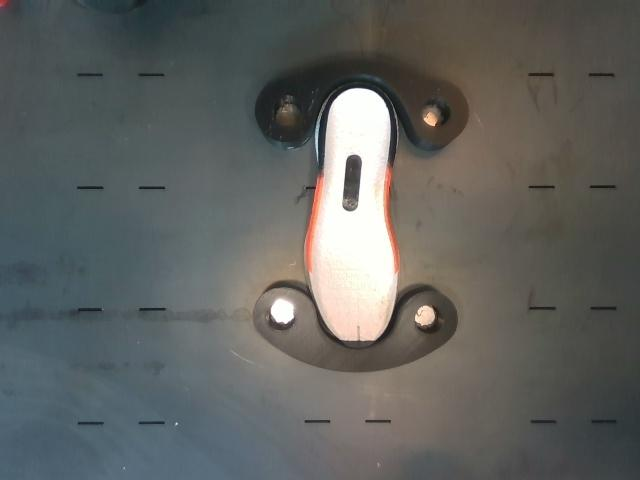shoes: (311, 89, 395, 347)
